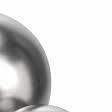ironball: (0, 5, 64, 111), (0, 99, 102, 111)
